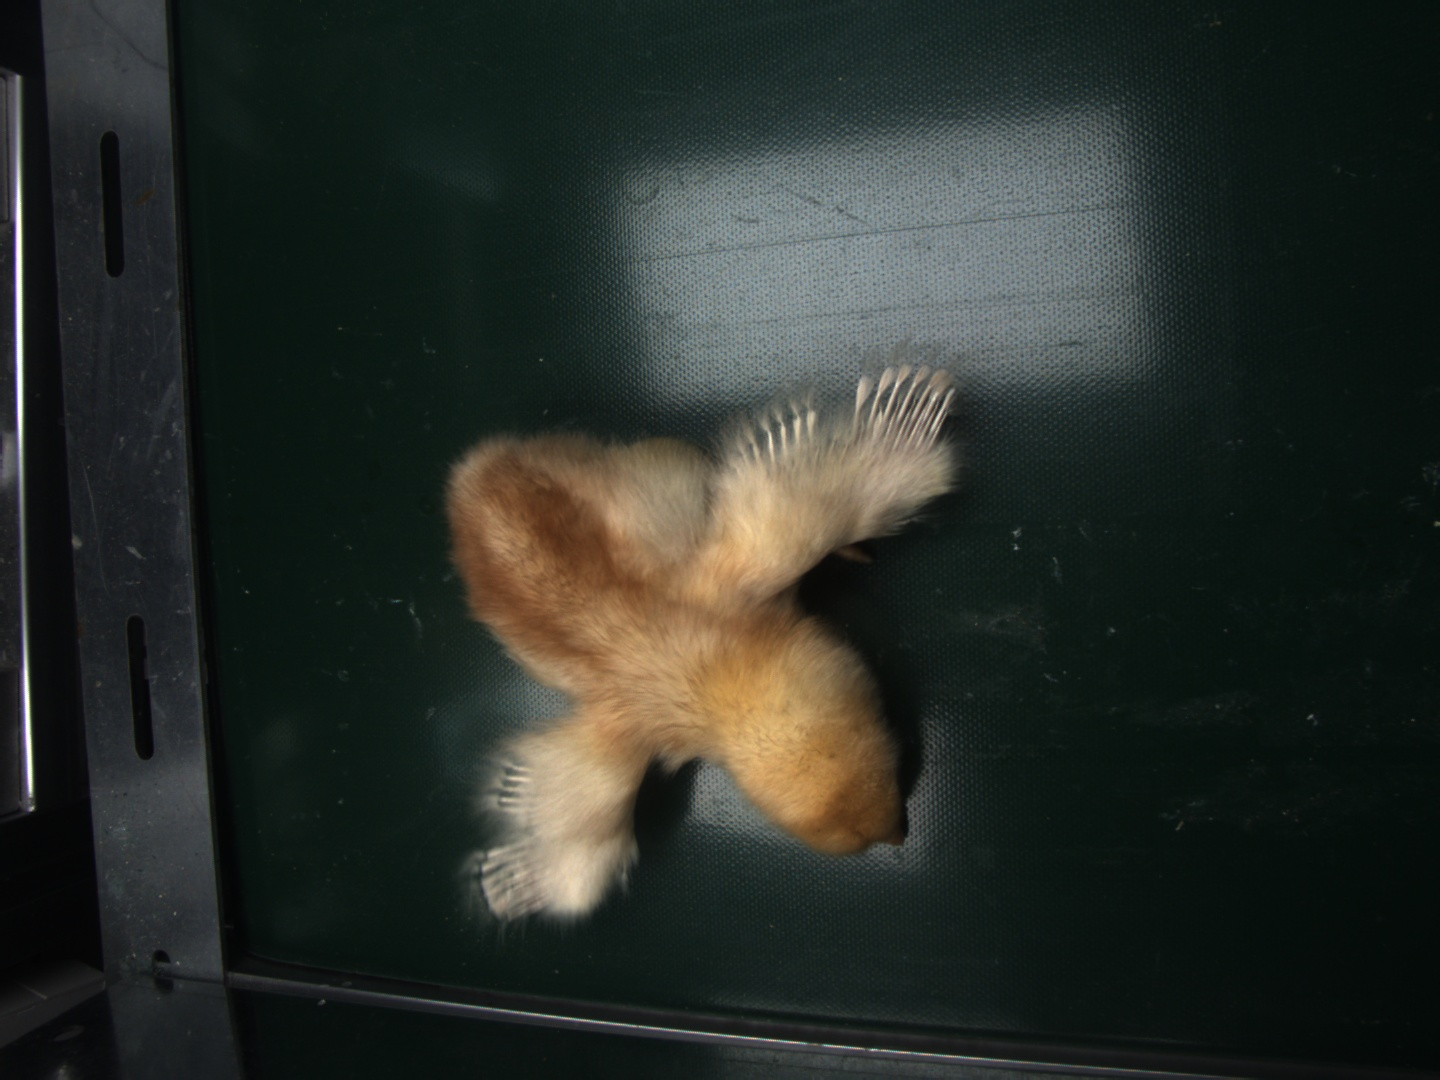female: (853, 365, 952, 445)
